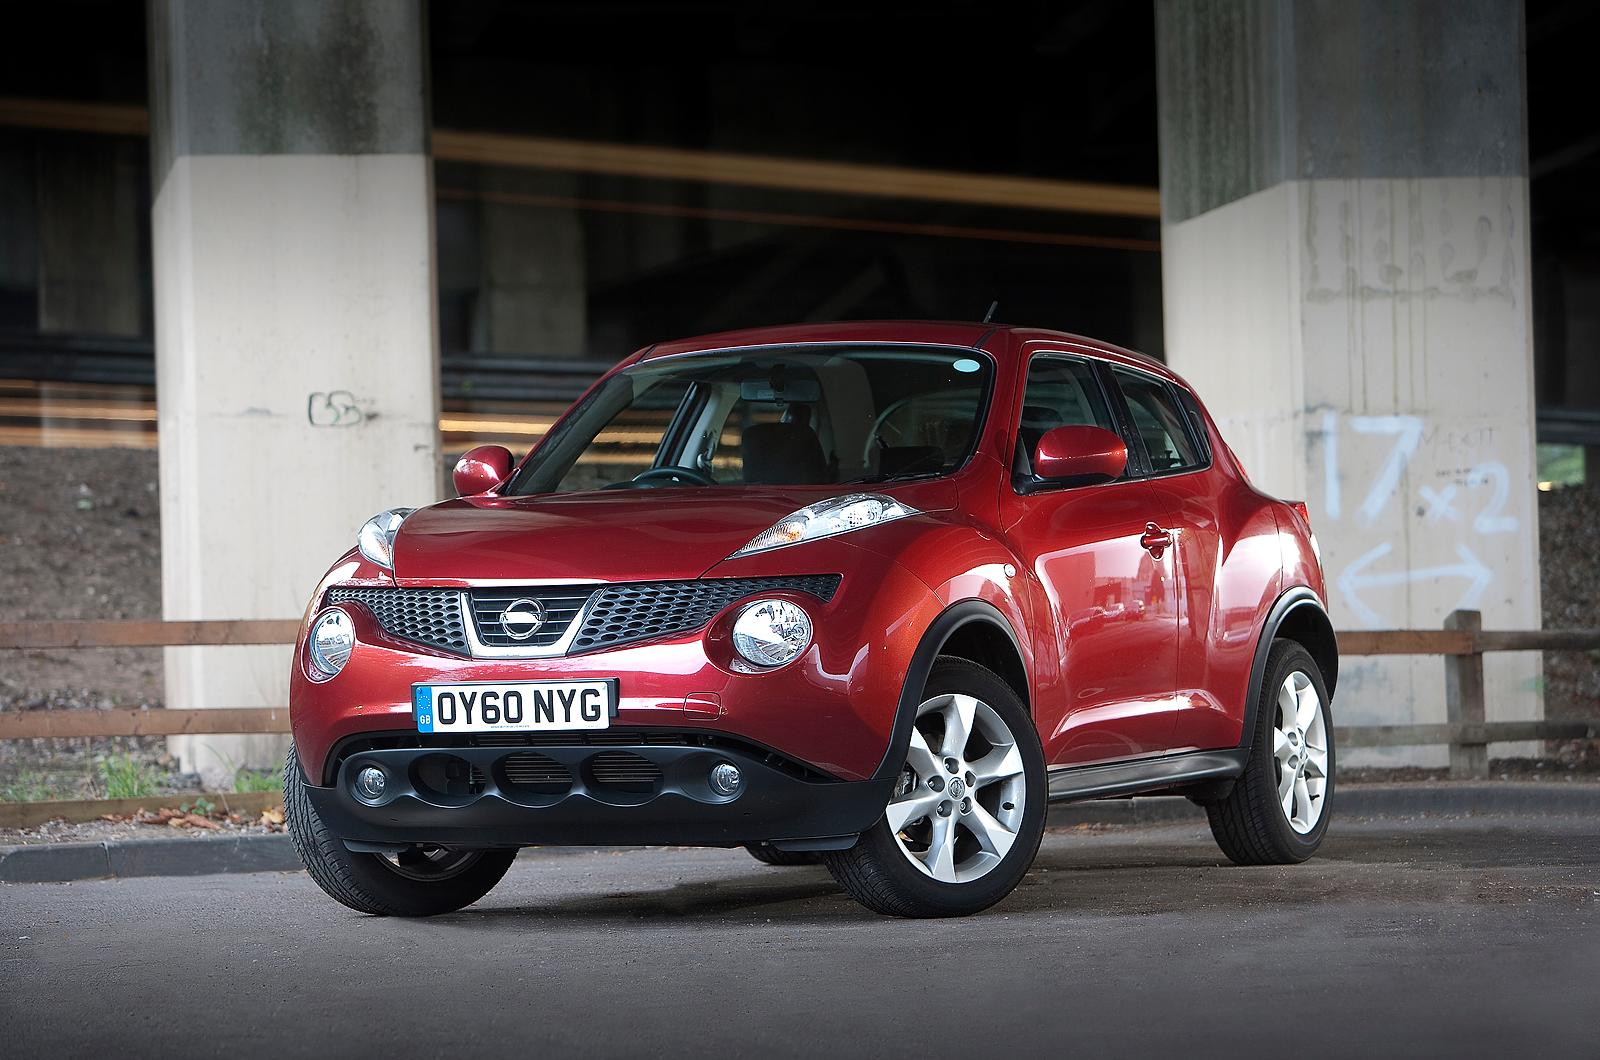car: (320, 238, 1293, 904)
